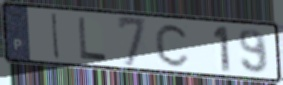1: (211, 24, 233, 74)
7: (115, 15, 149, 69)
9: (236, 27, 270, 76)
C: (154, 22, 192, 69)
I: (50, 11, 62, 61)
L: (76, 15, 109, 62)
